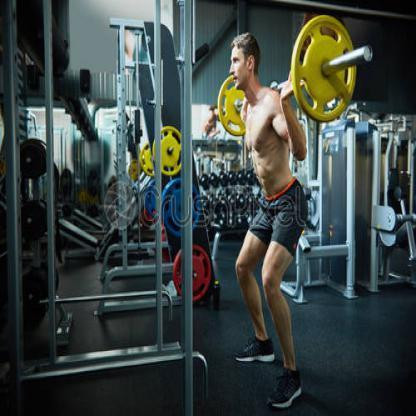barbell: (217, 10, 374, 138), (138, 182, 201, 237), (172, 242, 214, 304), (138, 125, 184, 178)
